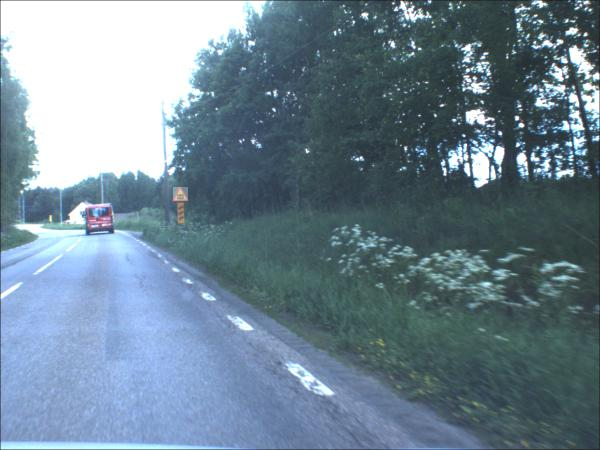WARNING: (174, 188, 190, 203)
